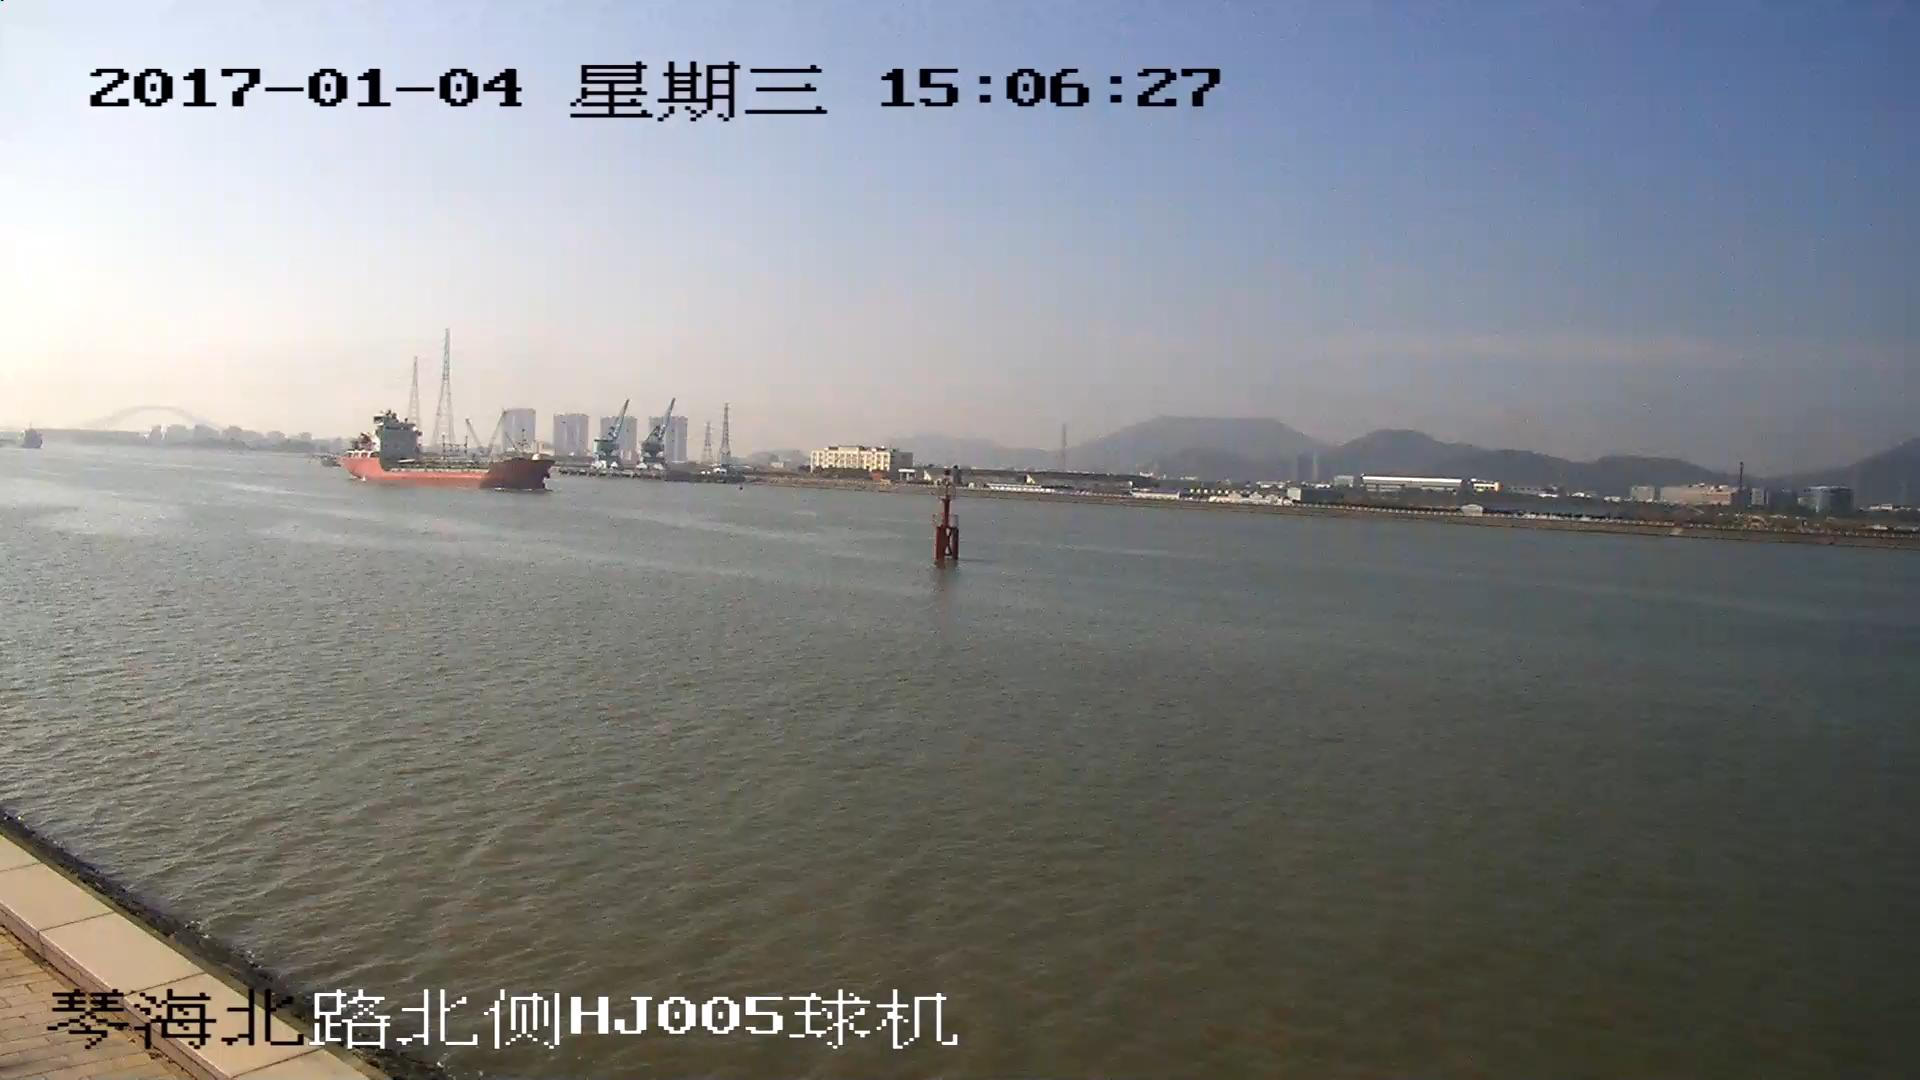general cargo ship: (331, 421, 553, 492)
